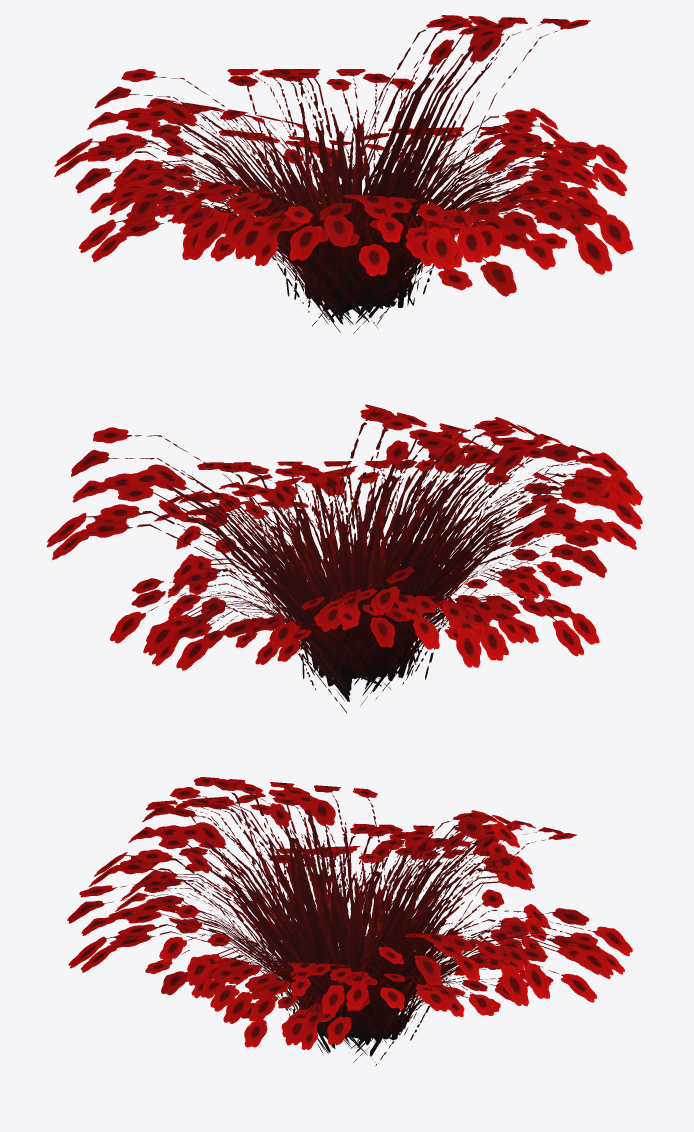
The model's file is bush_grassland_wildflower_a.glb.
3 renders of one model, top to bottom at view 1: azimuth 30°, elevation 25°; view 2: azimuth 150°, elevation 25°; view 3: azimuth 270°, elevation 25°, orthographic. The views are drawn at different scales.
Parts seen in each view (by area): view 1: bush_grassland_wildflower_a; view 2: bush_grassland_wildflower_a; view 3: bush_grassland_wildflower_a.
Part boxes in pixels (x1,y1,x2,y2): bush_grassland_wildflower_a: [54, 15, 633, 333]; bush_grassland_wildflower_a: [46, 404, 642, 712]; bush_grassland_wildflower_a: [67, 777, 632, 1065].
Size of the model in its own units: 1.7 by 0.7016 by 1.76.
Materials: 1 (1 with a texture image).
